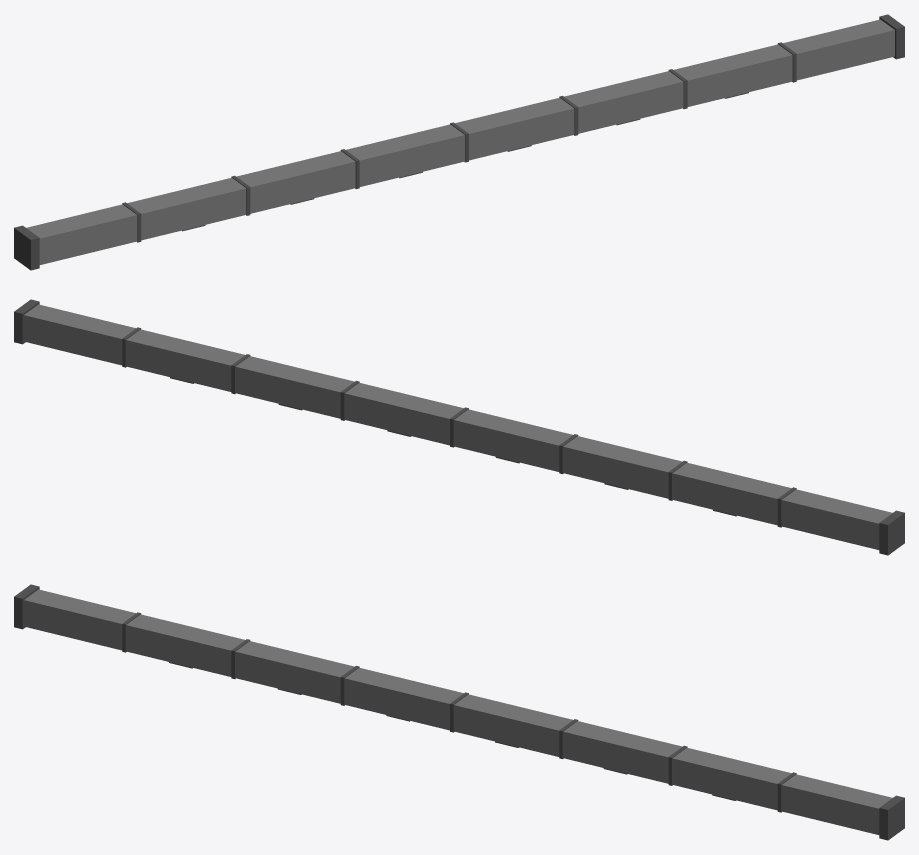
The model's file is WallDecor_07.fbx.
3 renders of one model, top to bottom at view 1: azimuth 30°, elevation 25°; view 2: azimuth 150°, elevation 25°; view 3: azimuth 330°, elevation 25°, orthographic.
Parts seen in each view (by area): view 1: WallDecor_07; view 2: WallDecor_07; view 3: WallDecor_07.
Boxes of the visible parts, box(x1,y1,x2,y2) form: WallDecor_07: box(14, 14, 904, 270); WallDecor_07: box(14, 299, 904, 555); WallDecor_07: box(14, 584, 904, 840).
Bounding box in the file's own units: 3000 × 100 × 100.
